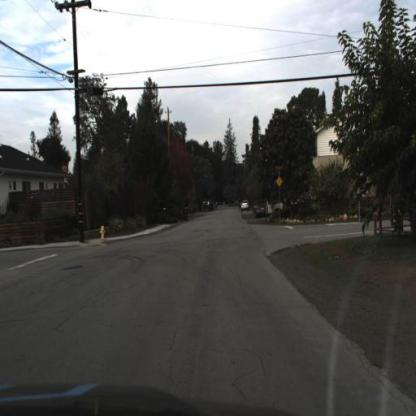car: (252, 198, 268, 224), (239, 198, 251, 215)
